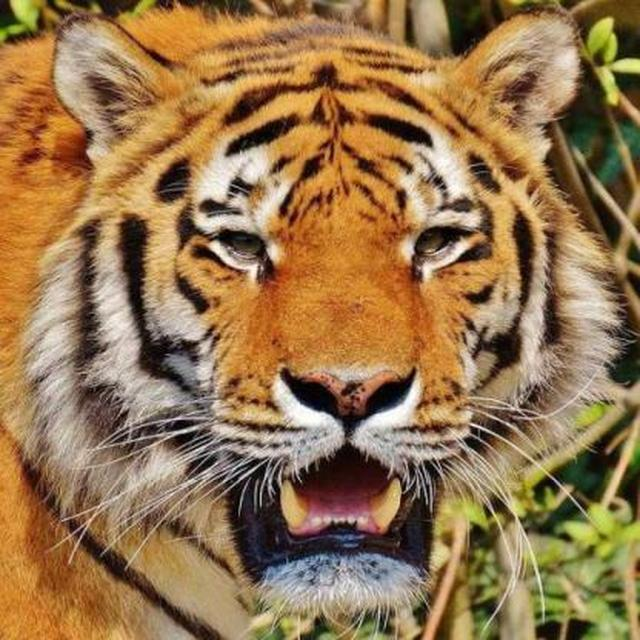tiger: (0, 0, 635, 639)
